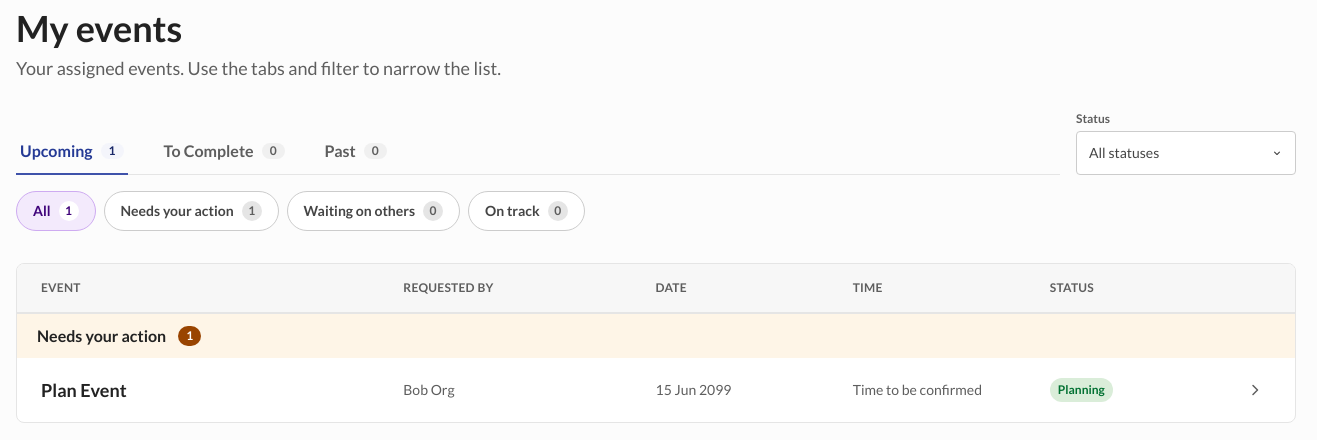
Scenario: CoordinatorWorkloadView — status filter dropdown › groups its options under the same who-acts-next sections as the table, and hides statuses with no events
The image size is (1317, 440).
Click the button with id "status-filter". click: (1186, 153)
box: [1076,131,1296,175]
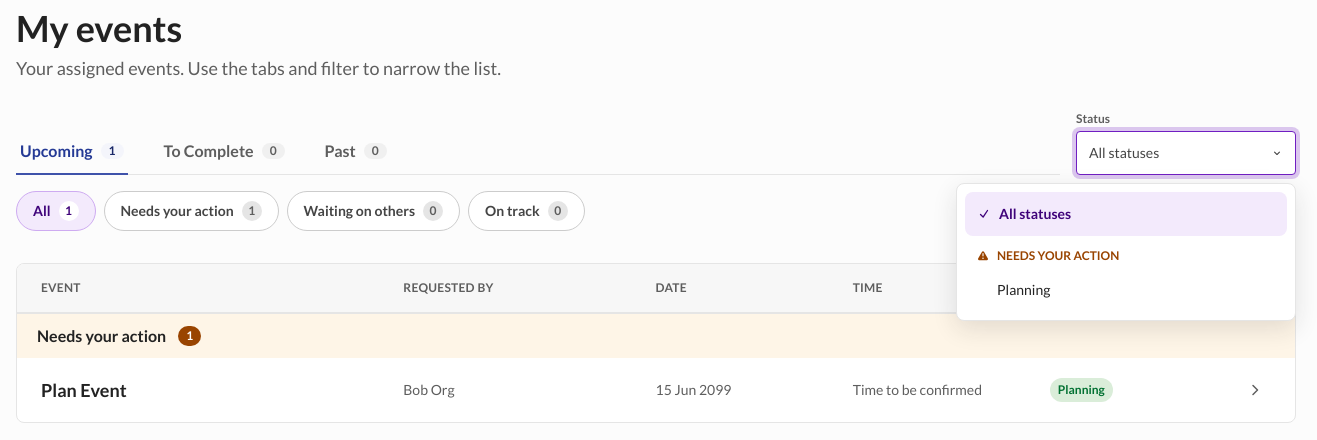
Expected: the elements with class "status-filter__section-label" read "NEEDS YOUR ACTION", in this order, [977,248,1119,263]
